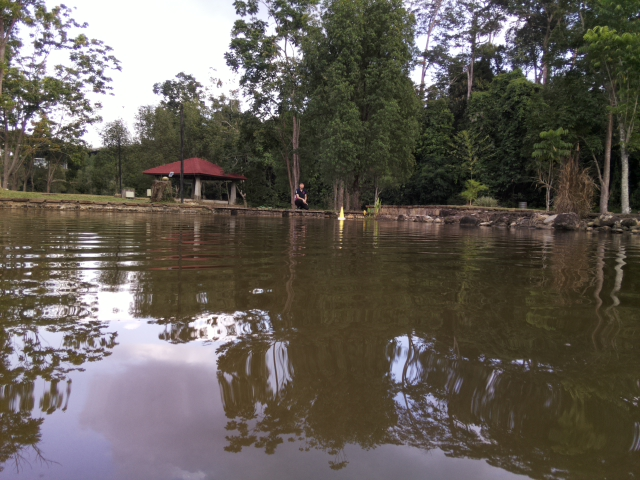checkpoint: (336, 206, 347, 220)
